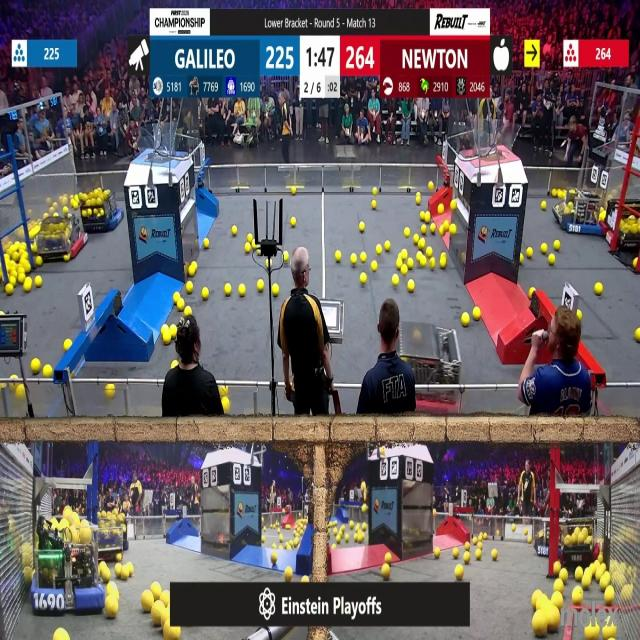ball_airborne: (380, 448, 386, 457)
ball_ground: (535, 613, 550, 640), (549, 612, 560, 634), (106, 598, 118, 618), (142, 593, 152, 613), (532, 592, 542, 609), (604, 588, 613, 606), (572, 589, 582, 605), (602, 627, 614, 640), (554, 593, 564, 608), (586, 628, 598, 640), (151, 584, 160, 599), (583, 574, 592, 589), (56, 630, 68, 640), (121, 564, 129, 579), (455, 565, 464, 578), (106, 384, 115, 397), (382, 564, 390, 578), (32, 358, 40, 372), (461, 313, 469, 327), (220, 398, 228, 412), (42, 364, 52, 375), (595, 282, 603, 295), (560, 568, 568, 581), (574, 568, 582, 581), (472, 308, 480, 320), (164, 334, 172, 346), (64, 340, 72, 352), (555, 581, 563, 593), (25, 281, 33, 293), (187, 266, 195, 278), (285, 567, 292, 580), (202, 288, 210, 299), (418, 238, 426, 249), (239, 284, 246, 296), (115, 564, 122, 576), (554, 562, 561, 574), (5, 284, 13, 294), (452, 550, 460, 560), (273, 284, 280, 295), (224, 284, 231, 295), (392, 275, 399, 286), (257, 280, 263, 292), (409, 280, 415, 292), (171, 325, 177, 337), (177, 302, 184, 312), (540, 244, 547, 254), (440, 224, 447, 234), (8, 275, 15, 285), (219, 386, 226, 396), (356, 536, 363, 546), (492, 550, 498, 561), (360, 274, 366, 285), (351, 253, 357, 264), (384, 241, 390, 252), (547, 253, 553, 264), (243, 241, 249, 252), (17, 274, 23, 285), (429, 257, 435, 268), (107, 584, 113, 595), (400, 267, 407, 276), (414, 235, 421, 244), (186, 282, 192, 292), (555, 241, 561, 251), (36, 277, 42, 287), (204, 239, 210, 249), (290, 216, 296, 226), (358, 221, 364, 231), (451, 223, 457, 233), (360, 252, 366, 262), (385, 554, 391, 564), (451, 201, 457, 211), (36, 256, 42, 266), (428, 181, 434, 191), (401, 250, 407, 260), (424, 212, 430, 222), (442, 260, 448, 270), (439, 204, 445, 214), (527, 248, 533, 258), (430, 223, 436, 233), (420, 259, 426, 269), (633, 257, 639, 267), (408, 258, 414, 268), (26, 263, 32, 273), (303, 574, 310, 582), (417, 252, 424, 260), (115, 554, 122, 562), (337, 251, 342, 262), (464, 553, 469, 564), (420, 212, 425, 223), (370, 263, 376, 272), (377, 245, 383, 254), (403, 229, 409, 238), (426, 248, 432, 257), (184, 308, 190, 317), (540, 202, 546, 211), (528, 287, 534, 296), (361, 503, 367, 512), (434, 549, 439, 559), (284, 251, 289, 261), (233, 225, 238, 235), (636, 328, 640, 340), (172, 360, 178, 368), (396, 262, 402, 270), (272, 554, 278, 562), (475, 551, 480, 560), (65, 254, 70, 263), (421, 224, 426, 233), (416, 197, 421, 206), (464, 542, 470, 549), (576, 311, 580, 321), (247, 235, 252, 243), (362, 523, 367, 531), (371, 201, 375, 210), (520, 254, 524, 263), (348, 522, 354, 528), (286, 543, 292, 549), (291, 187, 296, 194), (524, 528, 529, 535), (527, 536, 532, 543), (484, 536, 489, 543), (371, 188, 376, 195), (263, 538, 267, 546), (553, 188, 557, 196), (251, 242, 255, 250), (82, 210, 86, 218), (472, 537, 476, 544), (513, 525, 517, 532), (346, 535, 350, 542), (338, 535, 342, 542), (256, 250, 260, 256), (280, 535, 284, 541), (273, 542, 277, 548), (432, 510, 435, 518)
goal: (465, 124, 522, 160), (130, 129, 190, 160)
robot_blue: (31, 514, 104, 614), (0, 518, 24, 634), (555, 188, 603, 236), (82, 187, 123, 232), (96, 510, 128, 561)
robot_red: (388, 324, 462, 412), (37, 213, 87, 262), (600, 195, 638, 259), (557, 515, 598, 566)
